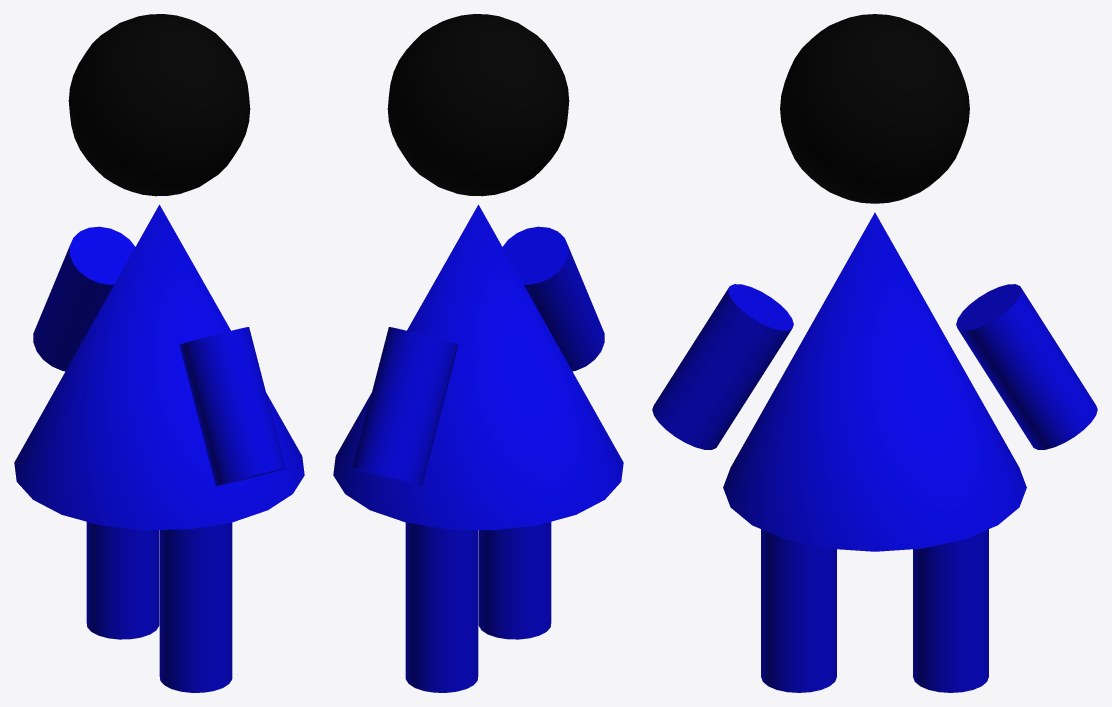
Rendered from fallHuman.fbx.
3 renders of one model, left to right at view 1: azimuth 30°, elevation 25°; view 2: azimuth 150°, elevation 25°; view 3: azimuth 270°, elevation 25°, orthographic. The views are drawn at different scales.
Parts seen in each view (by area): view 1: pCone1, pSphere1, pCylinder1, pCylinder3, pCylinder2, pCylinder4; view 2: pCone1, pSphere1, pCylinder2, pCylinder4, pCylinder1, pCylinder3; view 3: pCone1, pSphere1, pCylinder3, pCylinder4, pCylinder1, pCylinder2.
Boxes of the visible parts, x1,y1,x2,y2 form: pCone1: (14,204,304,530); pSphere1: (68,14,250,196); pCylinder1: (159,522,232,692); pCylinder3: (179,327,285,486); pCylinder2: (86,522,159,639); pCylinder4: (33,226,135,371); pCone1: (333,204,623,530); pSphere1: (387,14,569,196); pCylinder2: (405,522,478,692); pCylinder4: (352,327,458,486); pCylinder1: (478,522,551,639); pCylinder3: (502,226,604,371); pCone1: (723,212,1026,551); pSphere1: (780,14,969,203); pCylinder3: (652,284,793,449); pCylinder4: (956,284,1097,449); pCylinder1: (761,529,836,692); pCylinder2: (913,529,988,692).
Size of the model in its own units: 1.6 by 3.8 by 2.35.
